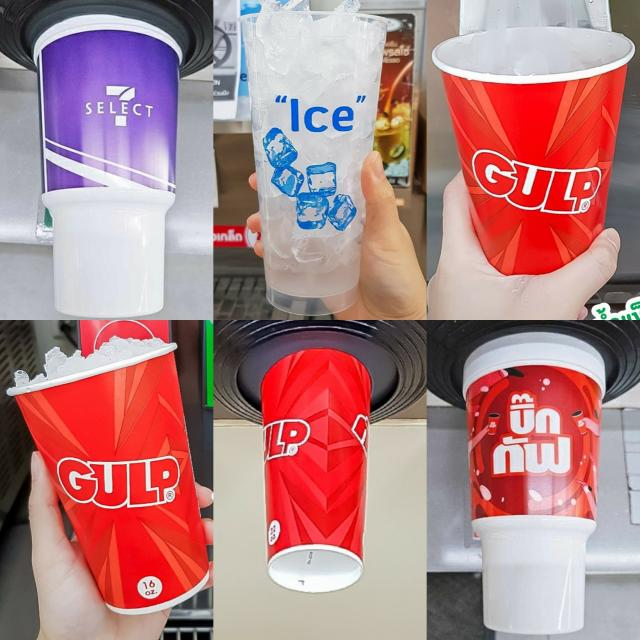Single-Use-Plastic: (10, 344, 209, 614), (432, 26, 635, 273), (32, 15, 182, 317), (240, 11, 386, 315), (462, 332, 606, 634), (261, 348, 371, 592)
